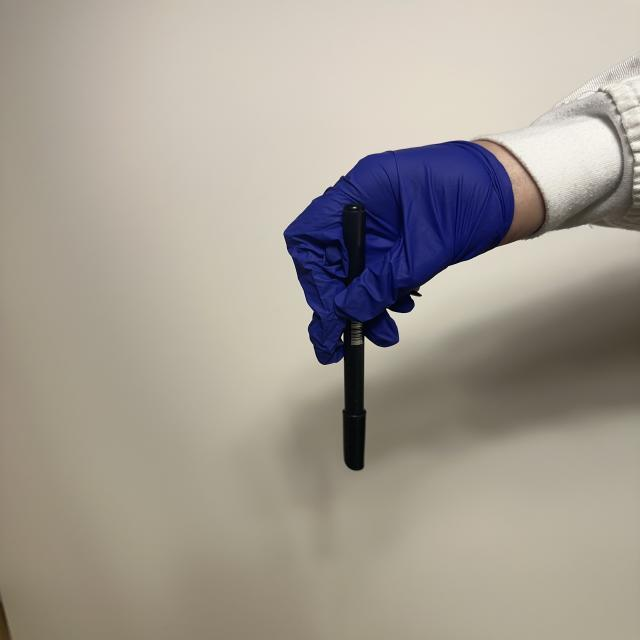glove_partial: (281, 137, 548, 365)
